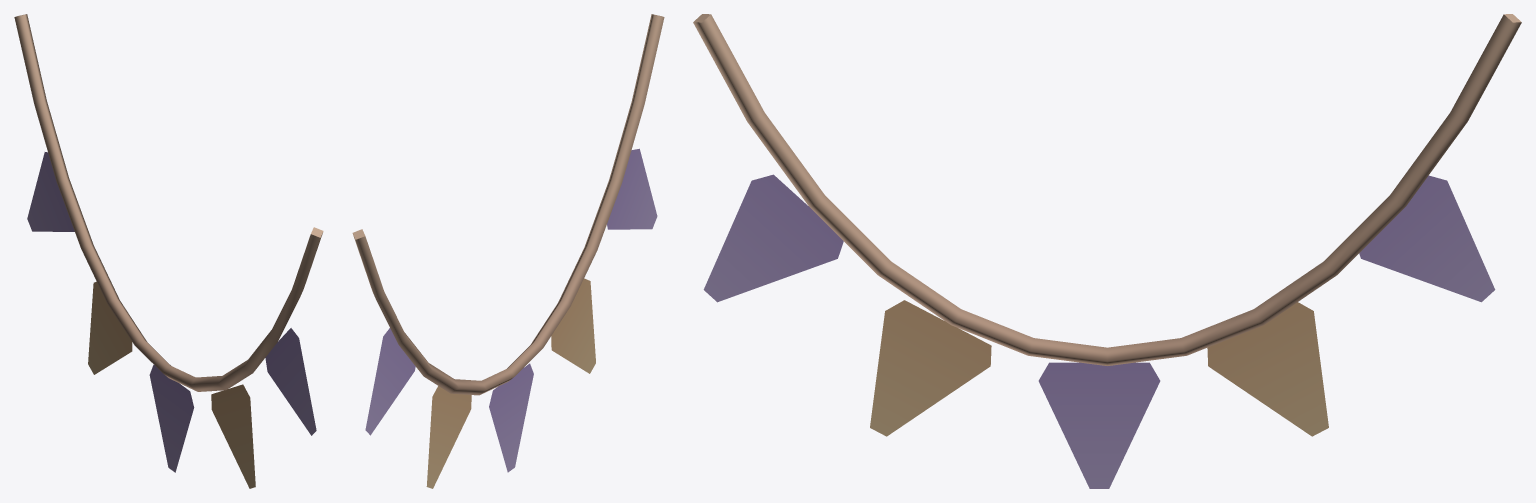
File: flags-c (%wall).glb
3 views of the same model, side by side, from view 1: azimuth 30°, elevation 25°; view 2: azimuth 150°, elevation 25°; view 3: azimuth 270°, elevation 25° (orthographic). The views are drawn at different scales.
Visible parts, largest first — view 1: flags-c (%wall); view 2: flags-c (%wall); view 3: flags-c (%wall).
Boxes of the visible parts, <box> form: flags-c (%wall): <box>14,14,323,488</box>; flags-c (%wall): <box>352,14,664,488</box>; flags-c (%wall): <box>693,14,1521,488</box>.
Bounding box in the file's own units: 0.025 × 0.6461 × 1.02.
